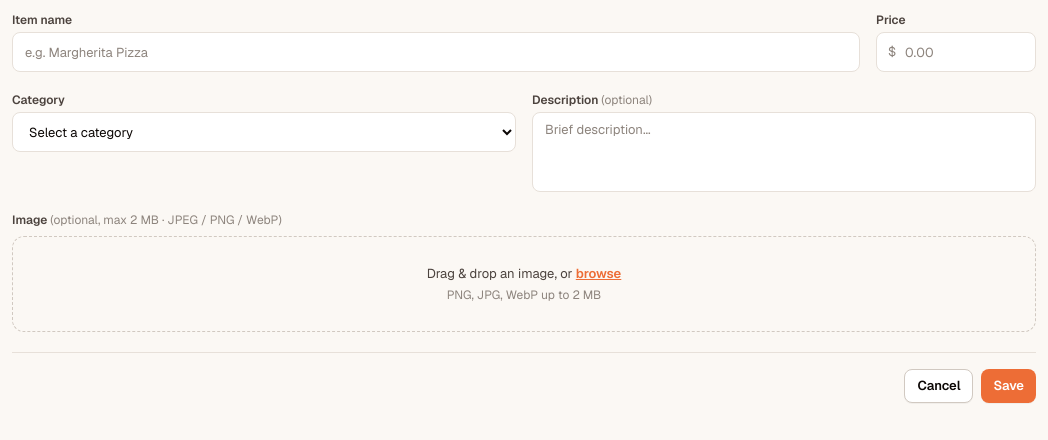
Test case: MenuItemForm › required fields show error on empty submit
Click the button "Save".
click(1009, 386)  # box [981,369,1036,403]
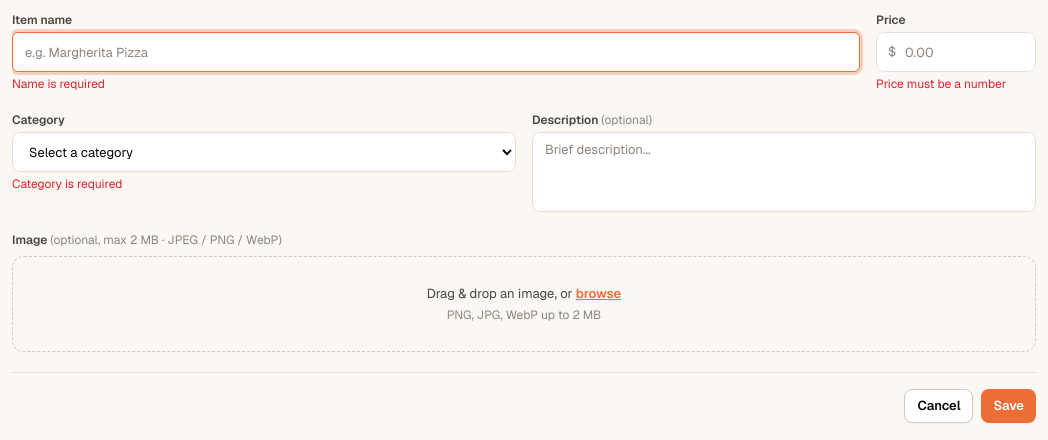
Expected: the text "Name is required" is shown, [12,76,105,92]
Expected: the text "Price must be a number" is shown, [876,76,1006,92]
Expected: the text "Category is required" is shown, [12,176,122,192]
